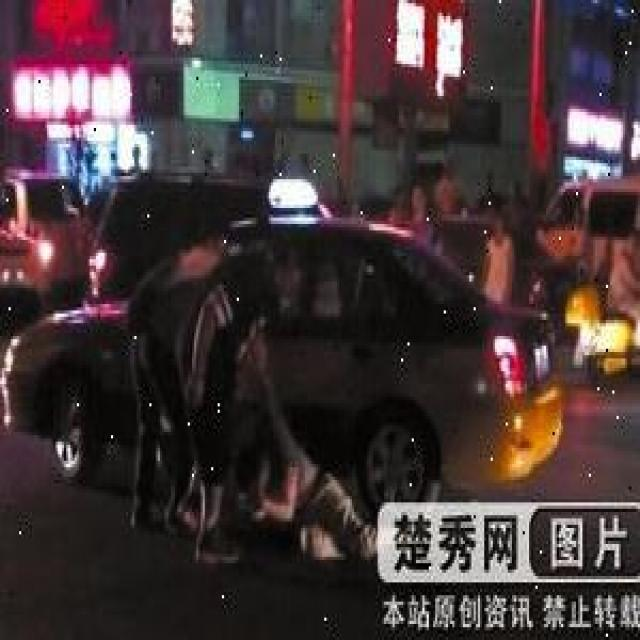fall: (232, 416, 374, 563)
